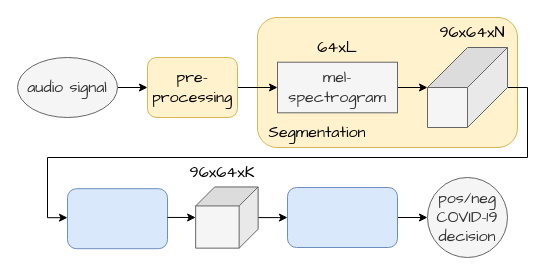
Image size: 553x275. Some labels were removed from this diagram. The shapes that lost their labels are listed below. From the top down, each one's centre as x and y in pixels, then its label:
At point (117, 218): "cough event detection".
At point (342, 217): "COVID-19 classification".
